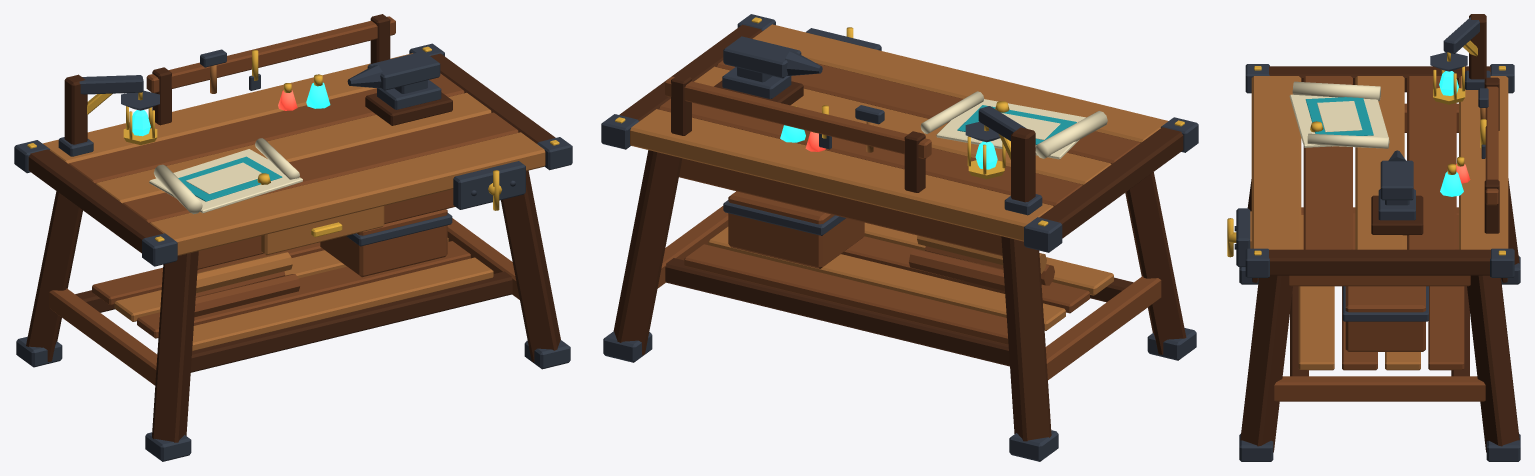
File: build_workbench.glb
3 views of the same model, side by side, from view 1: azimuth 30°, elevation 25°; view 2: azimuth 150°, elevation 25°; view 3: azimuth 270°, elevation 25° (orthographic). The views are drawn at different scales.
Visible parts, largest first — view 1: TimberFrame, Worktop, ToolRackAndProps, ViseAndAnvil, AetherLantern; view 2: TimberFrame, Worktop, ToolRackAndProps, ViseAndAnvil, AetherLantern; view 3: Worktop, TimberFrame, ToolRackAndProps, ViseAndAnvil, AetherLantern.
Boxes of the visible parts, x1,y1,x2,y2 form: TimberFrame: (16, 170, 570, 461); Worktop: (14, 43, 572, 266); ToolRackAndProps: (146, 14, 395, 214); ViseAndAnvil: (347, 51, 525, 210); AetherLantern: (58, 74, 159, 156); TimberFrame: (603, 150, 1196, 461); Worktop: (601, 14, 1198, 252); ToolRackAndProps: (665, 74, 1107, 192); ViseAndAnvil: (714, 27, 881, 105); AetherLantern: (965, 106, 1042, 215); Worktop: (1245, 64, 1514, 277); TimberFrame: (1239, 103, 1520, 461); ToolRackAndProps: (1289, 77, 1499, 233); ViseAndAnvil: (1227, 150, 1423, 266); AetherLantern: (1430, 14, 1490, 104).
Size of the model in its own units: 1.62 by 1.04 by 1.02.
